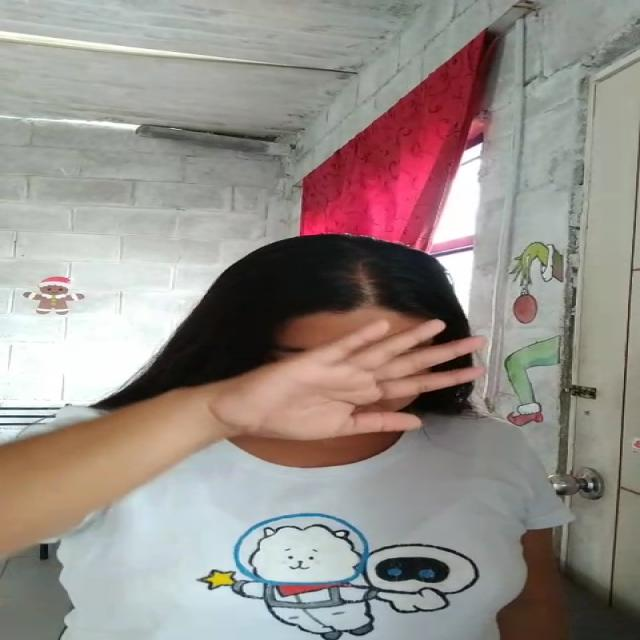7_mano_rostro: (178, 318, 426, 426)
